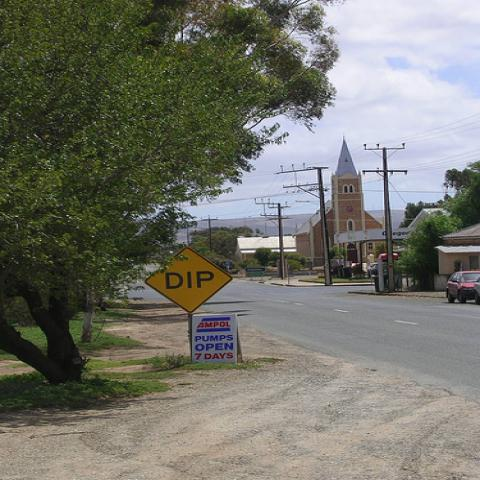car: (444, 269, 479, 305), (472, 276, 479, 304)
